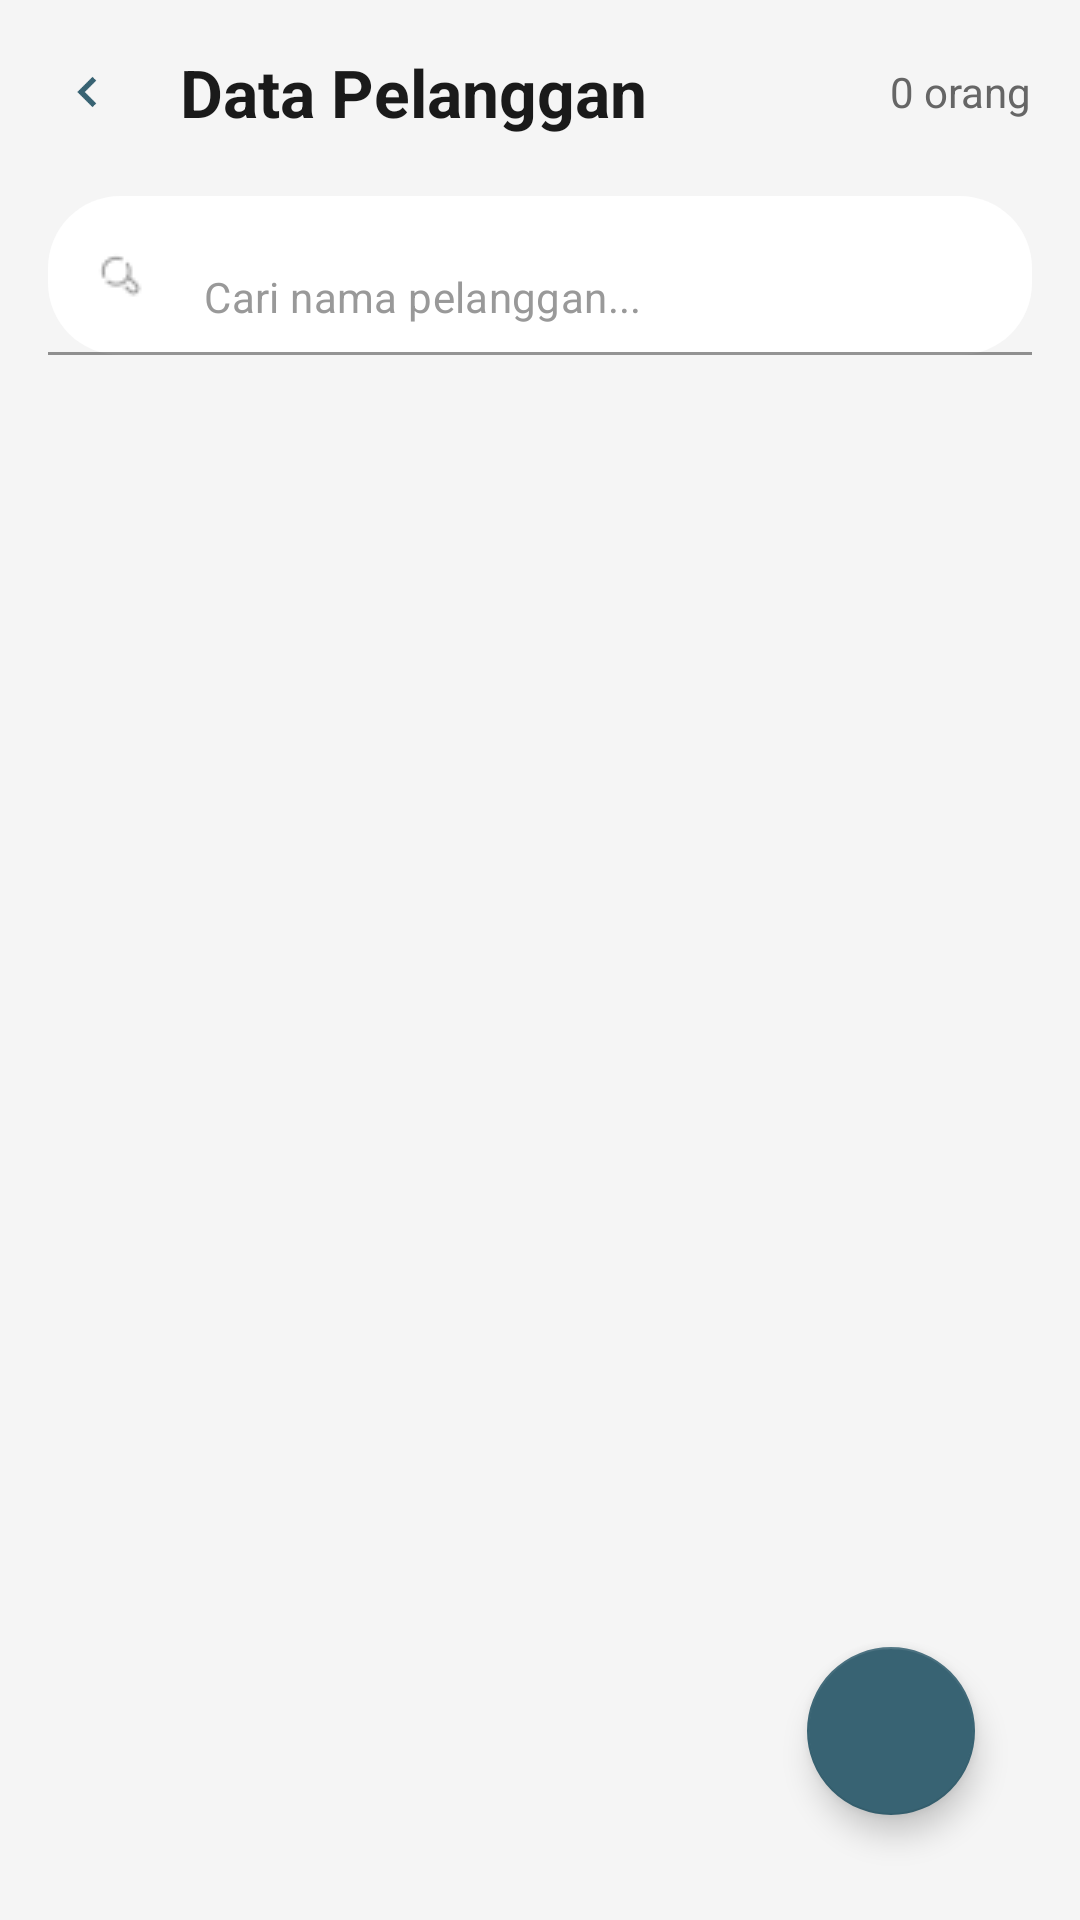

Locate icon controls on the screen. Image size 1080px x 1920px, boxes as Rect(x1, y1, x2, y2).
Kembali: Rect(77, 77, 96, 107)
